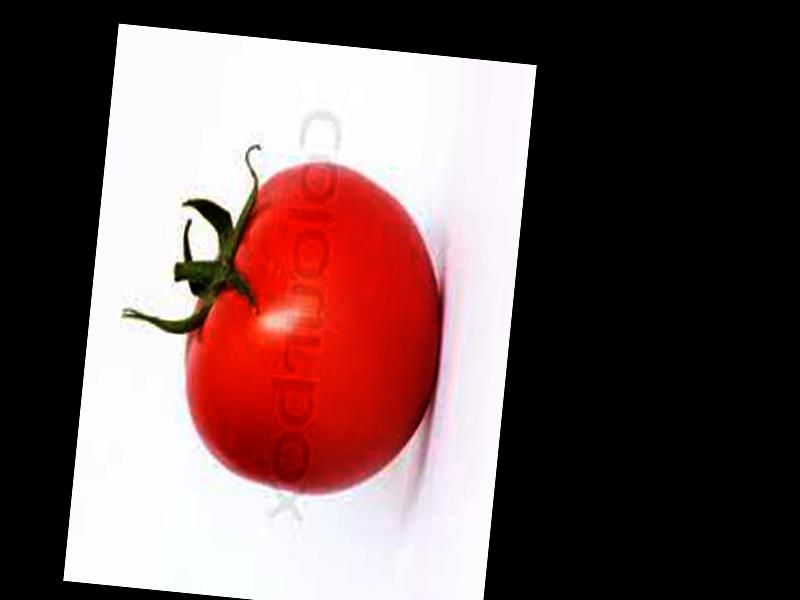Tomato: (172, 154, 452, 504)
